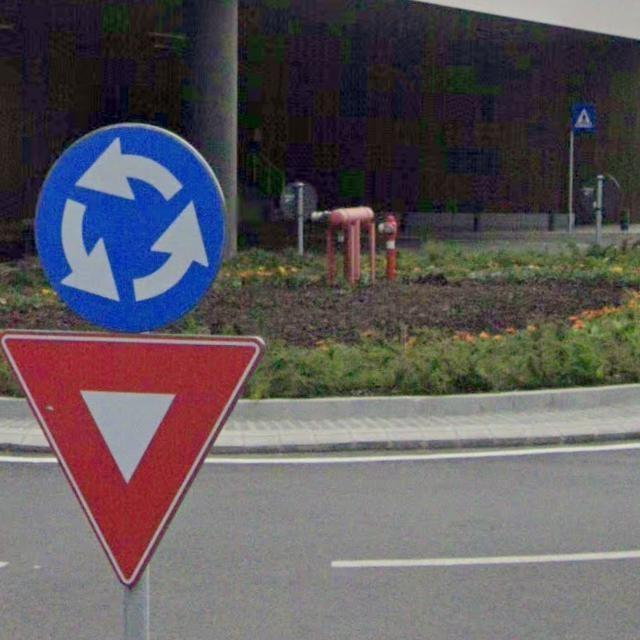info_crosswalk: (571, 105, 596, 134)
prio_give_way: (1, 328, 261, 589)
